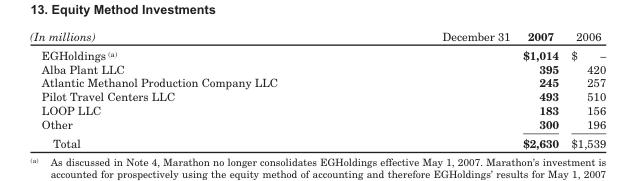table: (29, 28, 605, 149)
table column: (29, 28, 359, 149), (359, 28, 515, 149), (515, 28, 564, 149), (564, 28, 605, 149)
table column header: (29, 28, 605, 44)
table row: (29, 44, 605, 61), (29, 116, 605, 133), (29, 28, 605, 44), (29, 133, 605, 149), (29, 61, 605, 75), (29, 75, 605, 89), (29, 89, 605, 103), (29, 103, 605, 116)
